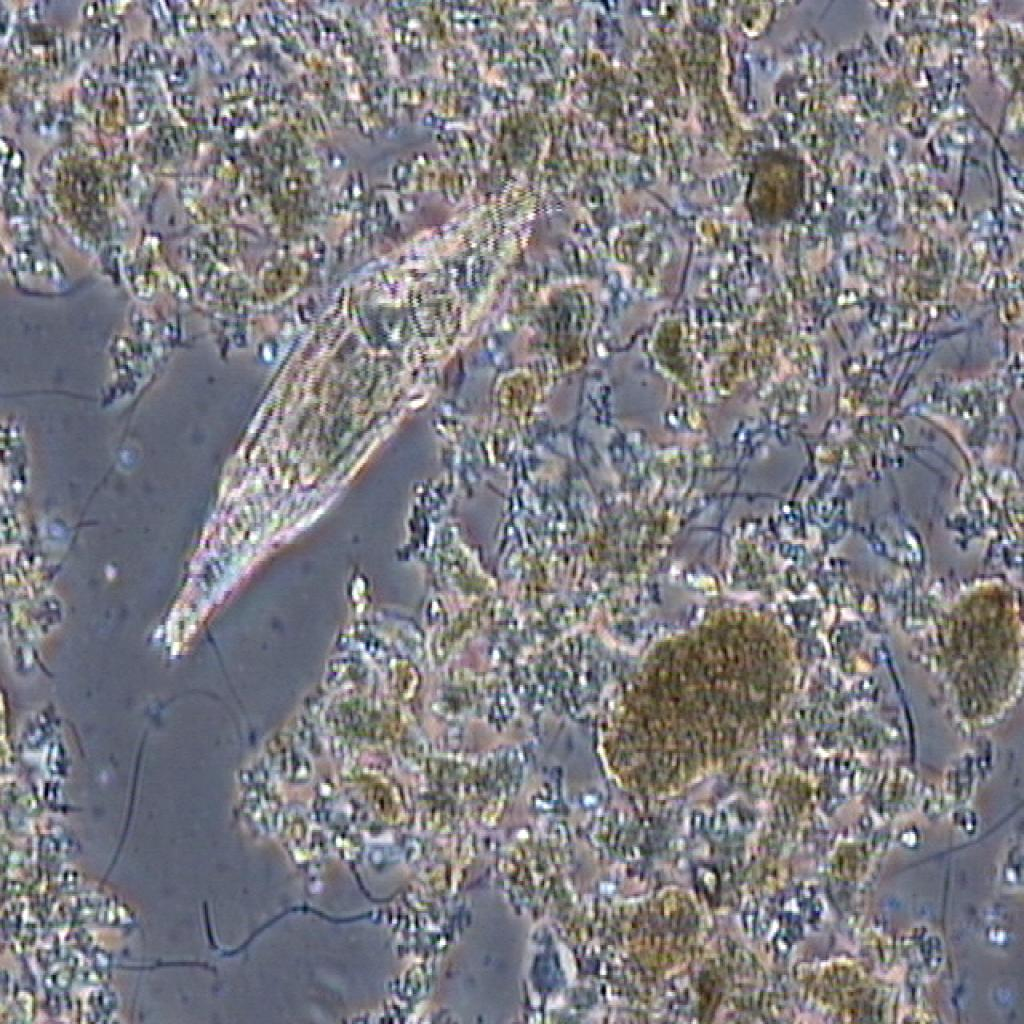Rotatoria: (133, 198, 549, 664)
